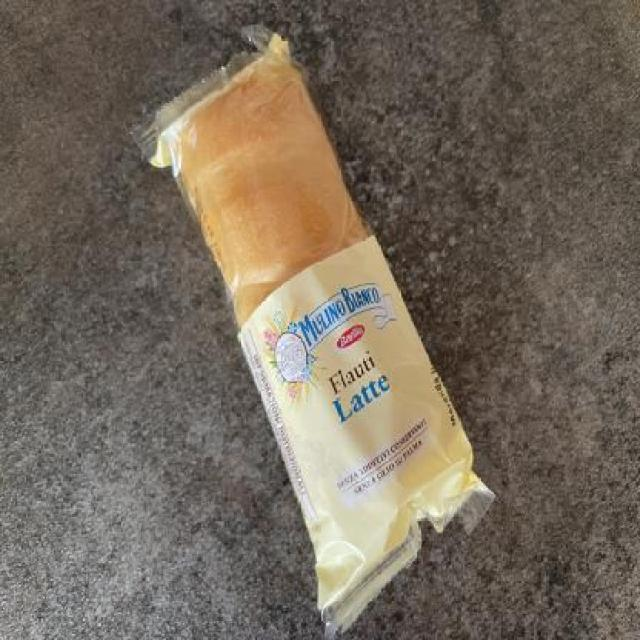Merendine packaged: (147, 31, 498, 618)
